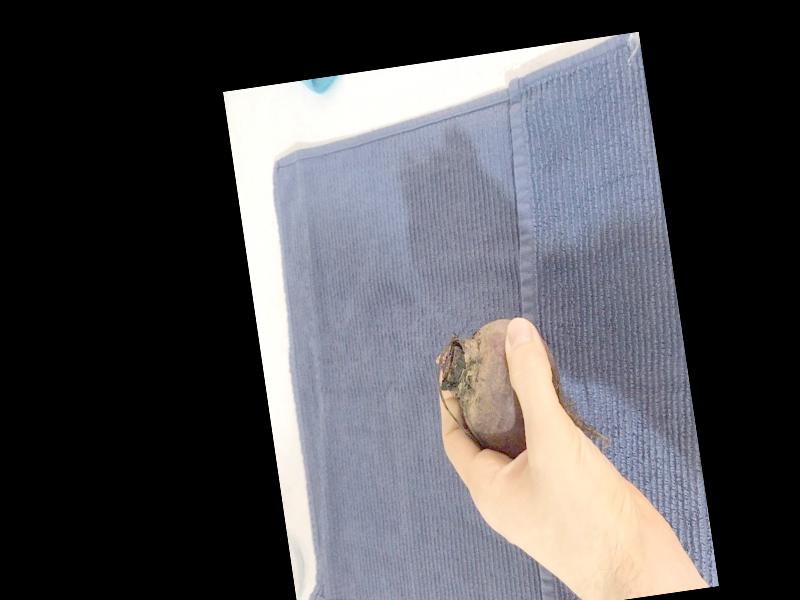Beet: (431, 305, 611, 463)
